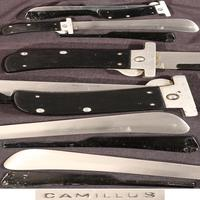knife: (3, 44, 200, 74), (3, 116, 191, 141), (1, 18, 199, 34)
